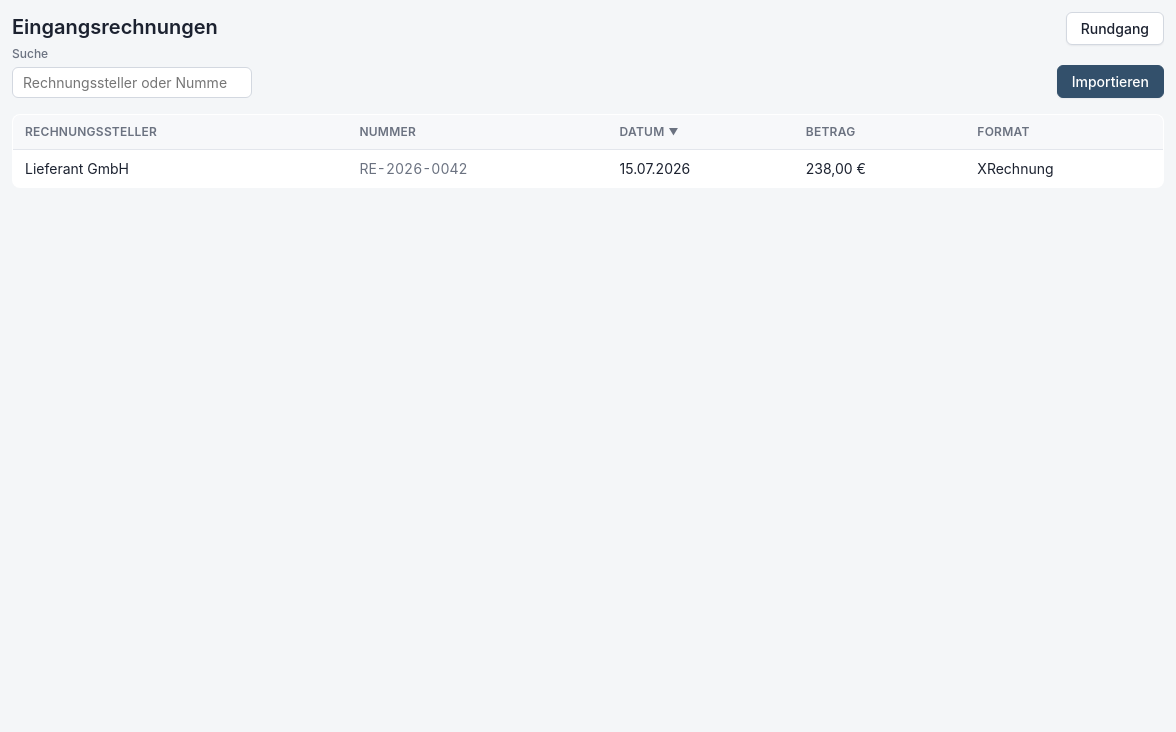
Test: Eingangsrechnungen › wechselt nach Klick auf Bearbeiten in editierbare Felder
The image size is (1176, 732).
Expected: the text "Lieferant GmbH" is shown, [12,150,347,188]
Click the button "Importieren". click: [1110, 82]
box: [1057,65,1164,98]
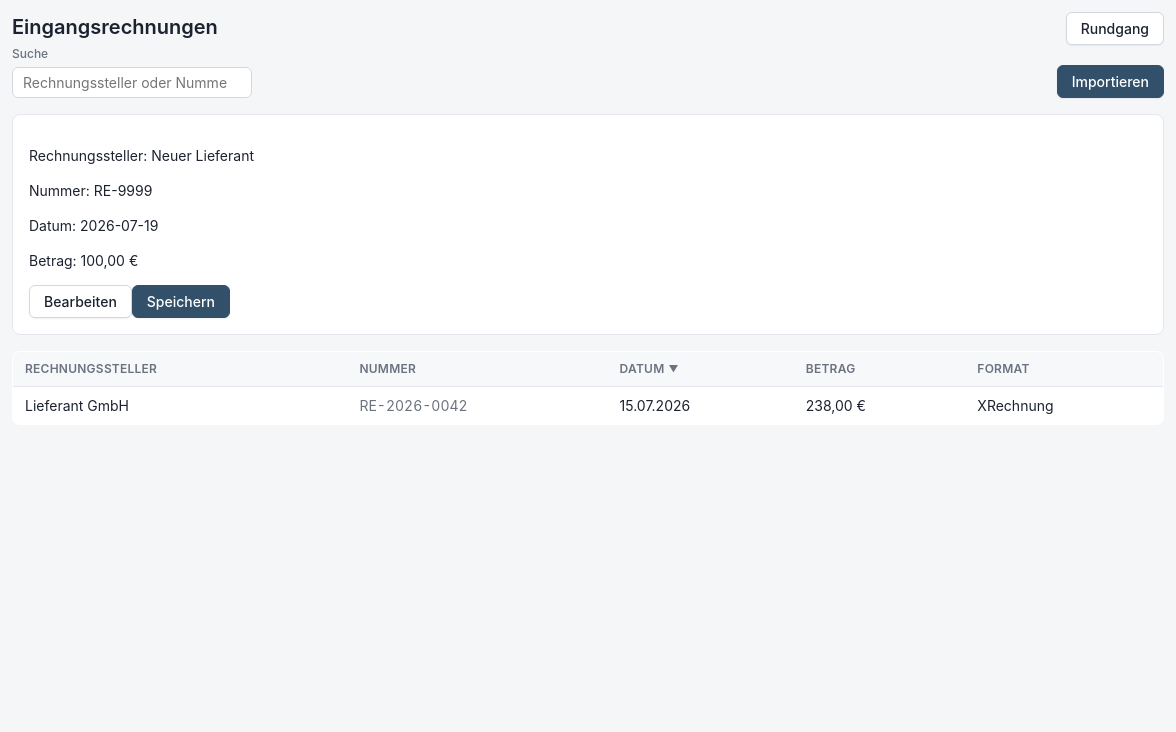
Result: the text "Neuer Lieferant" is shown at [151,147,254,164]
Click the button "Bearbeiten". click: [80, 302]
box: [29,285,132,318]
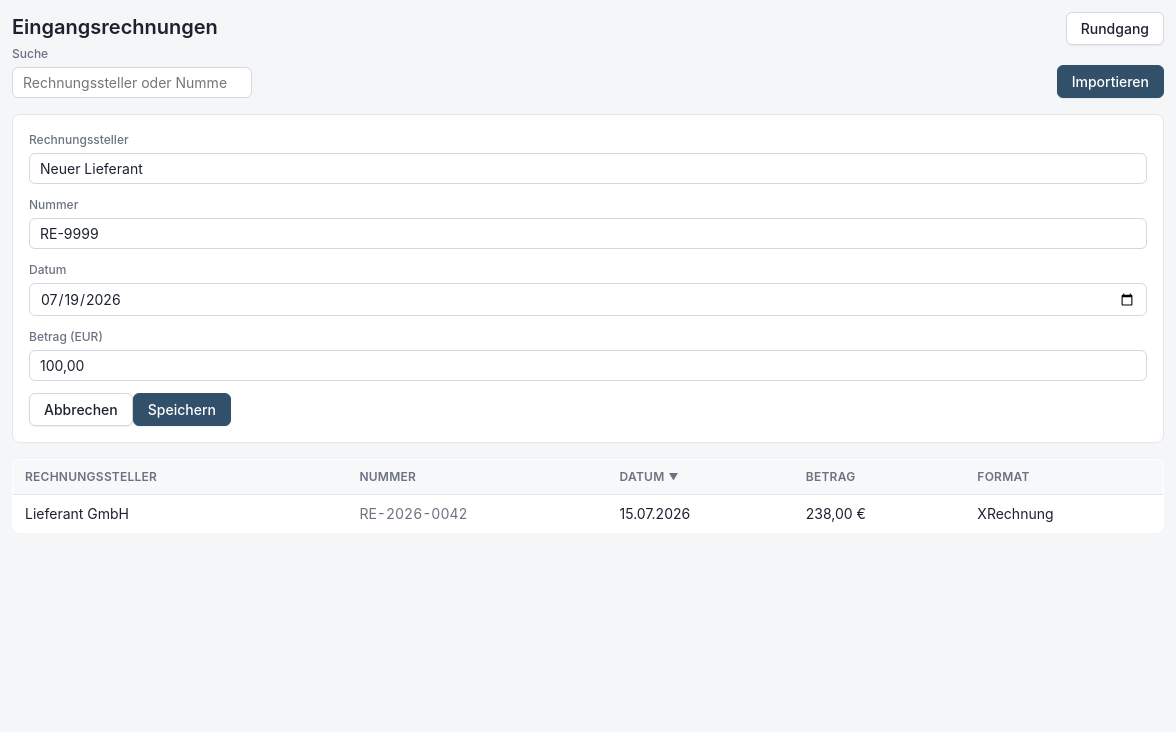
Result: the field labelled "Rechnungssteller" is shown at [29,153,1147,184]
